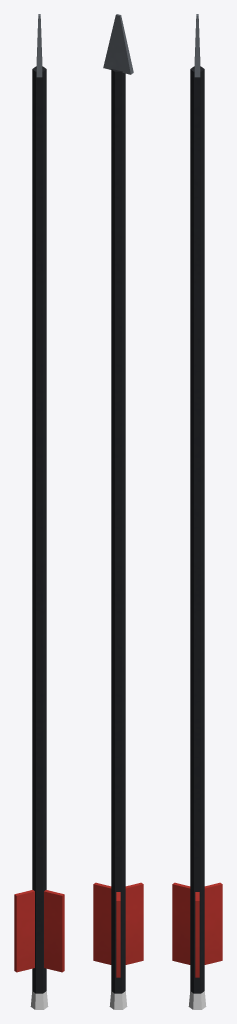
The model's file is weapon_arrow.glb.
3 views of the same model, side by side, from view 1: azimuth 90°, elevation 25°; view 2: azimuth 150°, elevation 25°; view 3: azimuth 270°, elevation 25° (orthographic).
Visible parts, largest first — view 1: Weapon_Arrow; view 2: Weapon_Arrow; view 3: Weapon_Arrow.
Part boxes in pixels (box(x1,y1,x2,y2)): Weapon_Arrow: box(14, 14, 64, 1009); Weapon_Arrow: box(93, 14, 143, 1009); Weapon_Arrow: box(172, 14, 222, 1009).
Bounding box in the file's own units: 0.03 × 0.751 × 0.0344.
4 materials, 3 textured.
